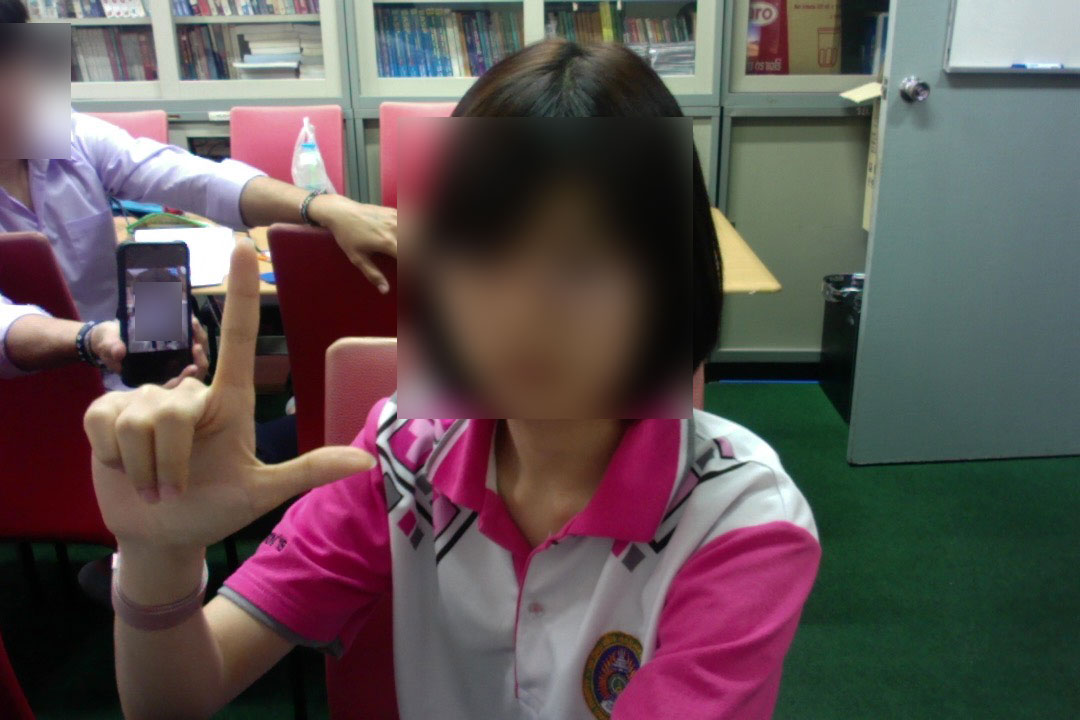lor: (79, 224, 381, 595)
